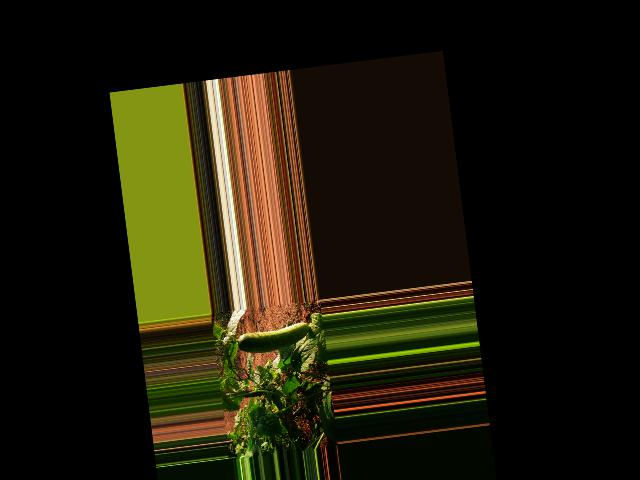cucumber: (236, 321, 311, 355)
